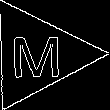M_N: (11, 29, 64, 80)
